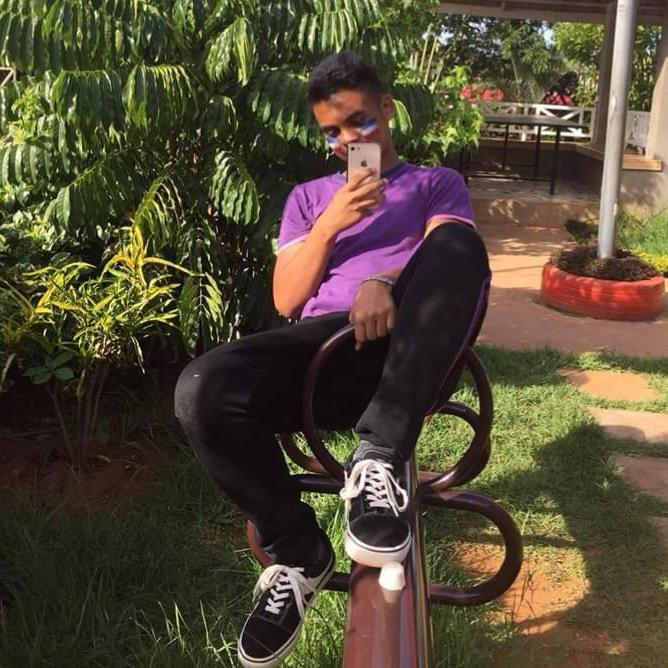BOY: (304, 53, 401, 162)
